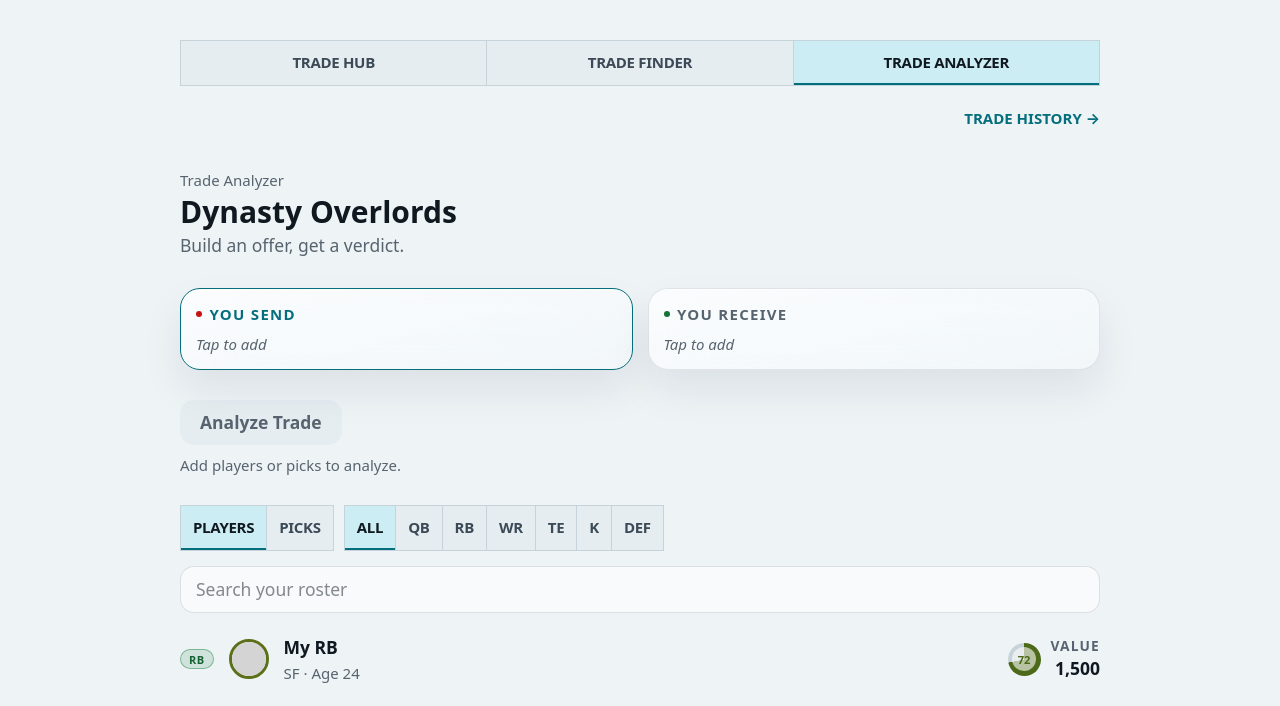
Test: TradeAnalyzerContent › adds a player from the search results into the active side's panel
The width and height of the screenshot is (1280, 706).
Click the text "My RB" at (311, 647), box [284,635,338,659]
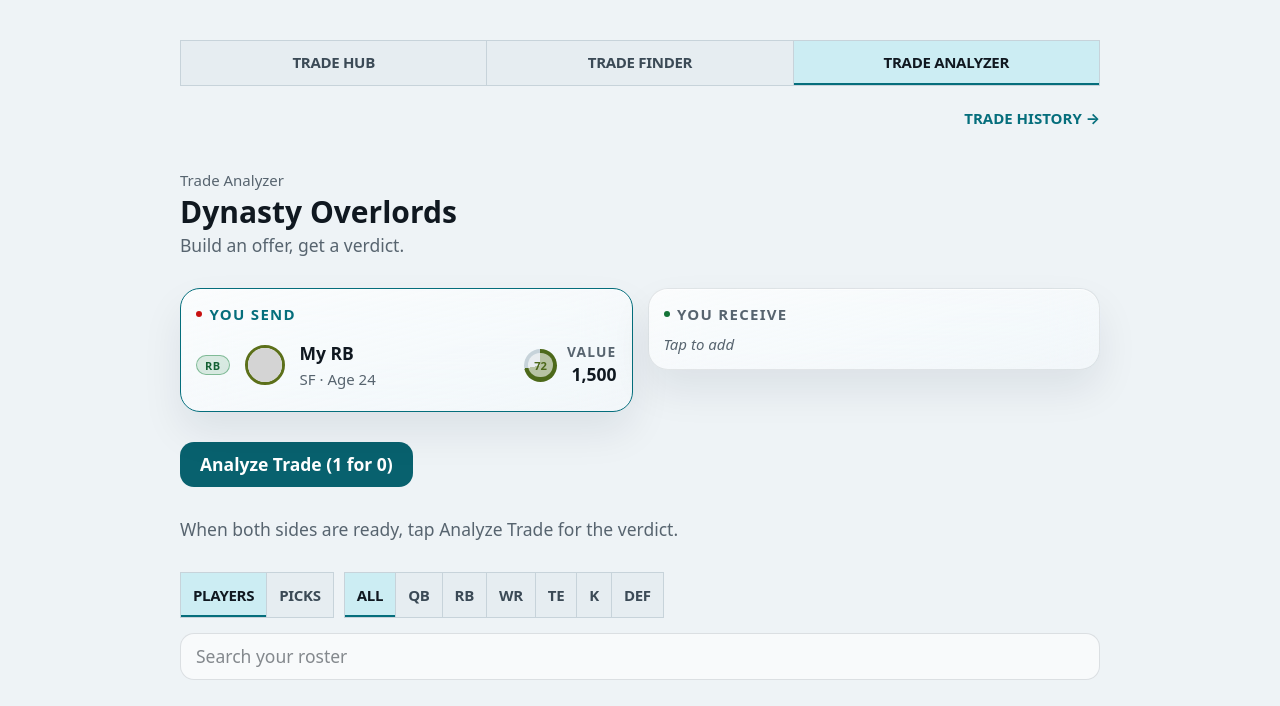
Now the button with aria-label "Remove My RB" is shown, box [196,334,616,396]
